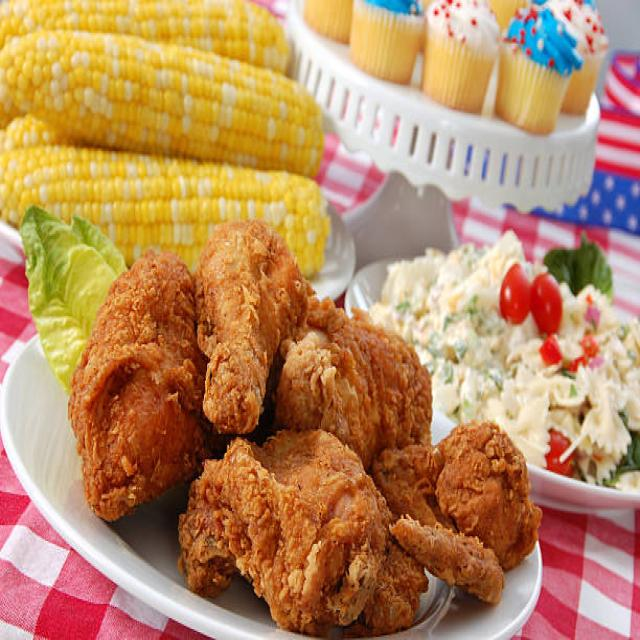Frango: (62, 203, 542, 640)
